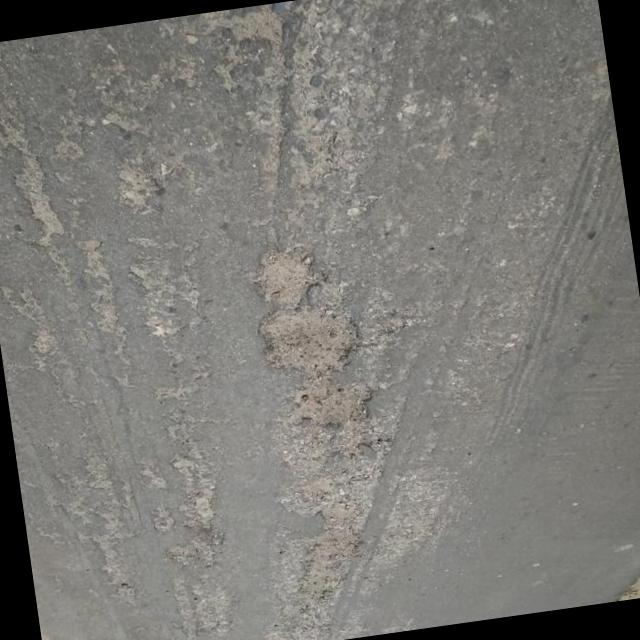pothole: (250, 300, 370, 386), (286, 496, 376, 606), (276, 374, 382, 437), (8, 153, 71, 255), (248, 240, 328, 316), (220, 4, 290, 56), (112, 160, 164, 216)
